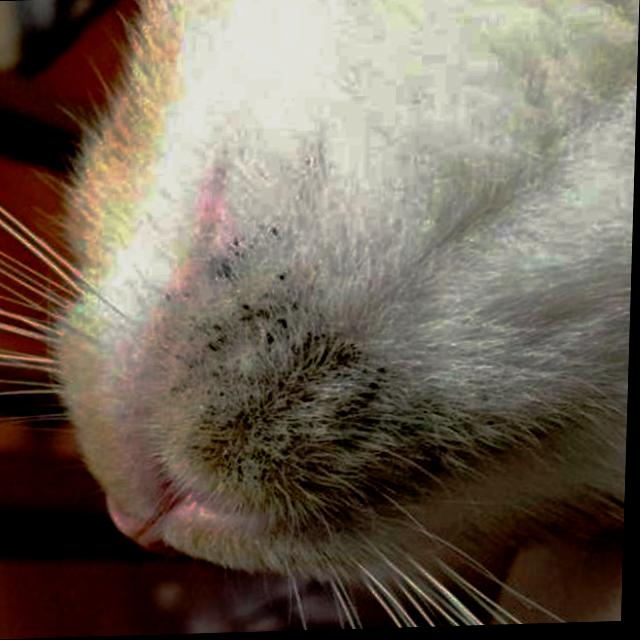acne: (198, 289, 487, 530)
